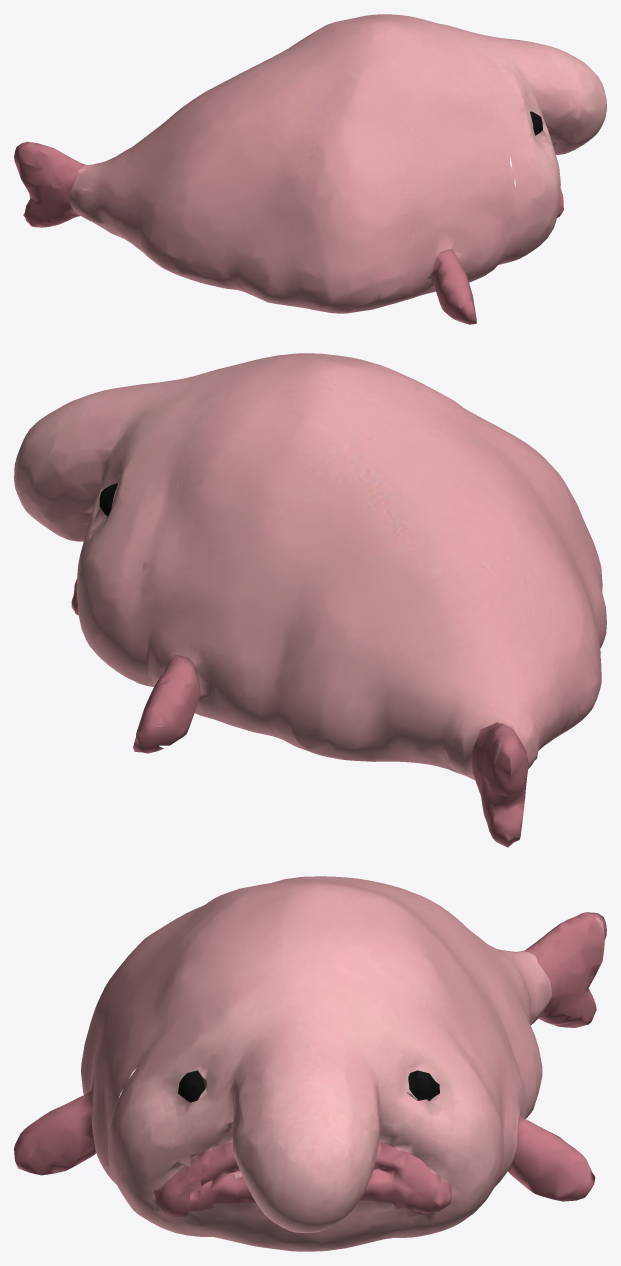
File: blobfish.glb
The picture shows the model from 3 angles, top to bottom: view 1: azimuth 30°, elevation 25°; view 2: azimuth 150°, elevation 25°; view 3: azimuth 270°, elevation 25°; orthographic projection. The views are drawn at different scales.
Visible parts, largest first — view 1: blobfish; view 2: blobfish; view 3: blobfish.
Boxes of the visible parts, x1=… form: blobfish: x1=14, y1=14, x2=606, y2=324; blobfish: x1=14, y1=353, x2=606, y2=847; blobfish: x1=14, y1=876, x2=606, y2=1251.
Size of the model in its own units: 1.6 by 0.7162 by 1.3.
1 material, 1 textured.
